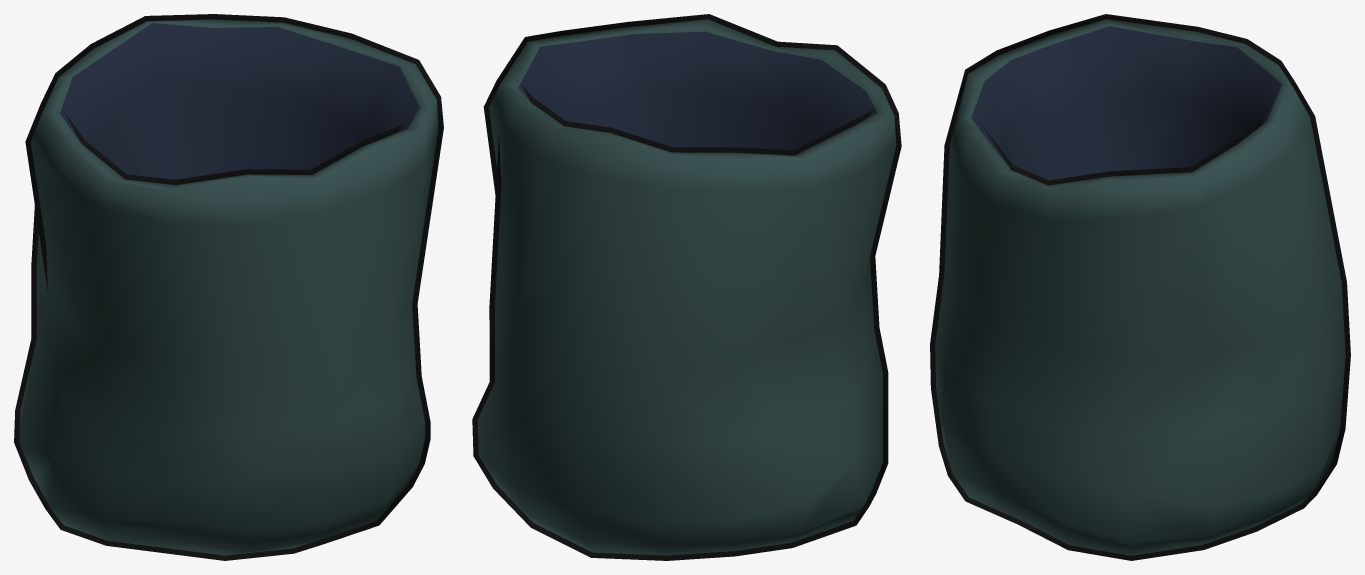
File: Bag.fbx
3 views of the same model, side by side, from view 1: azimuth 30°, elevation 25°; view 2: azimuth 150°, elevation 25°; view 3: azimuth 270°, elevation 25° (orthographic). The views are drawn at different scales.
Parts seen in each view (by area): view 1: Bag; view 2: Bag; view 3: Bag.
Part boxes in pixels (left/top/right/bottom): Bag: left=14, top=14, right=443, bottom=560; Bag: left=472, top=14, right=901, bottom=560; Bag: left=930, top=14, right=1350, bottom=560.
Bounding box in the file's own units: 110 × 125 × 113.
